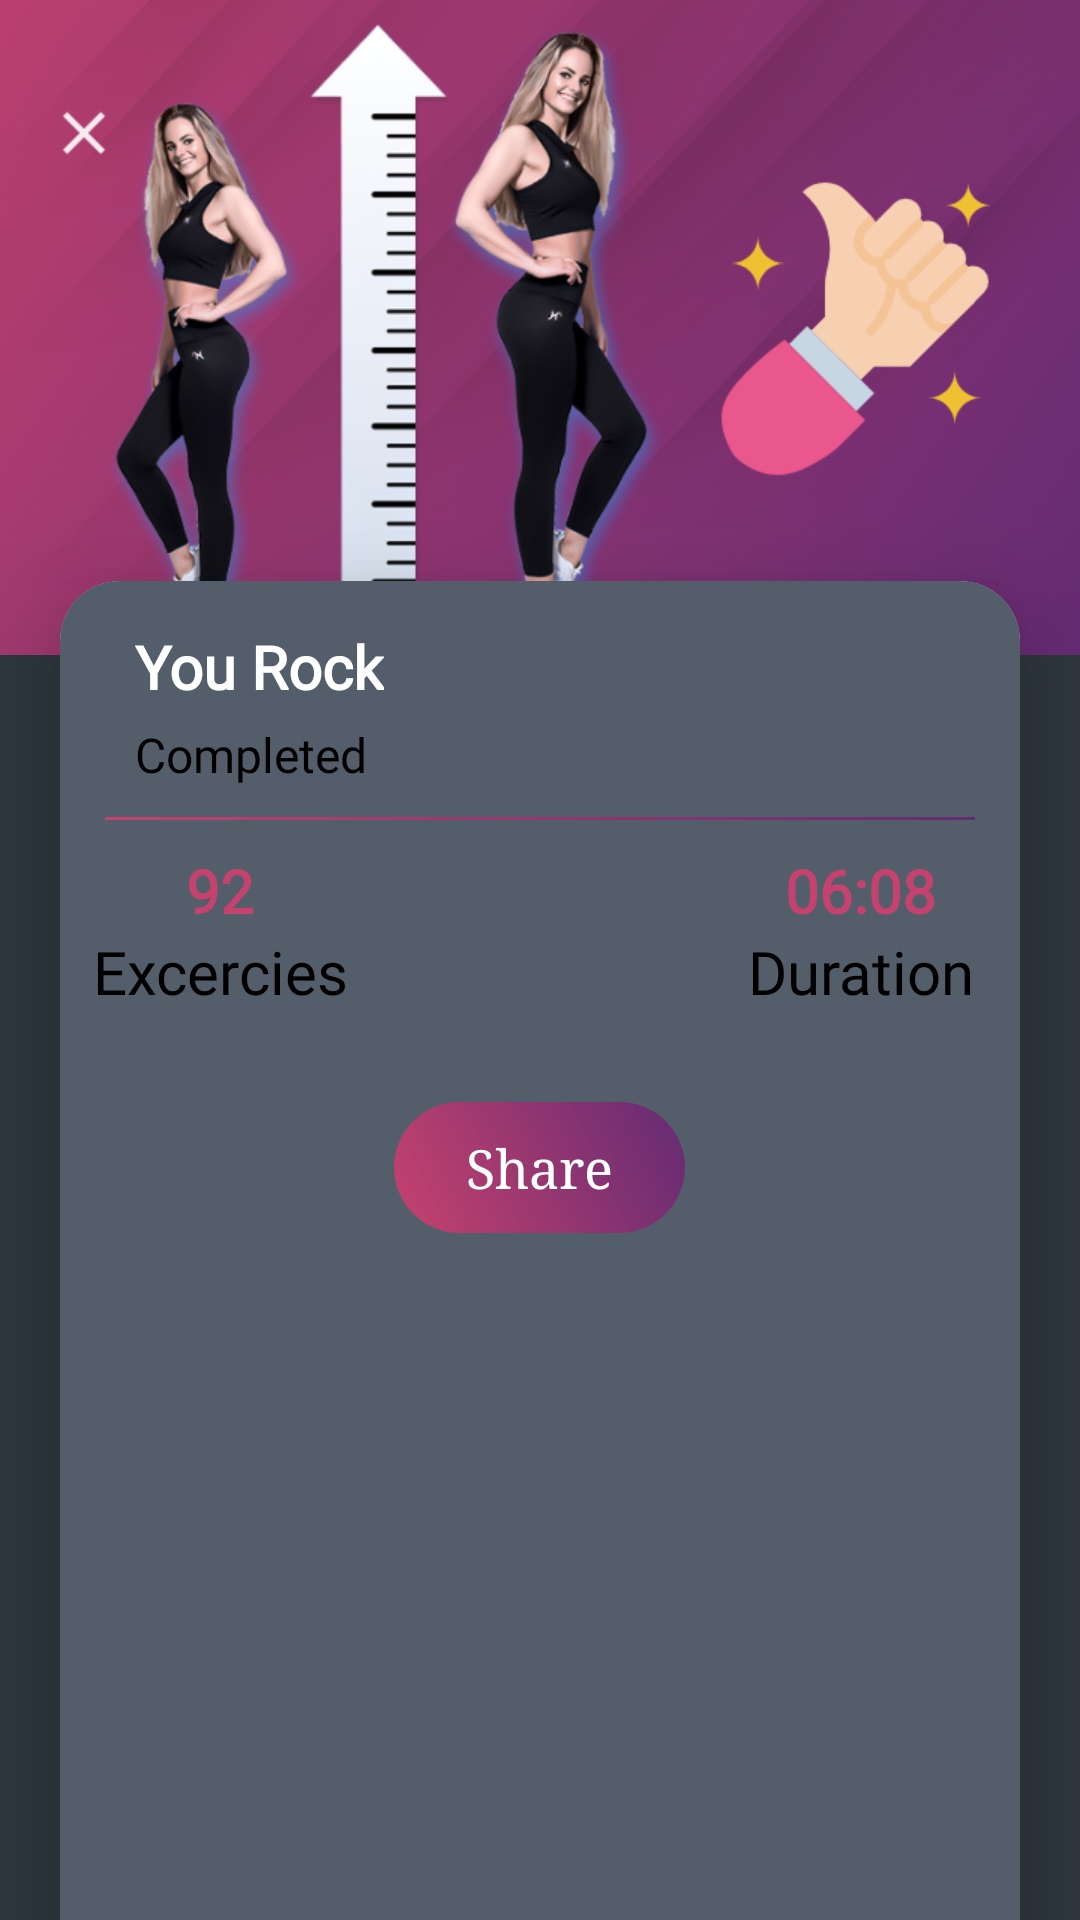

Icons on this 1080 x 1920 Android screen, each with its box as (x1, y1, x2, y2):
clear: (63, 112, 105, 154)
